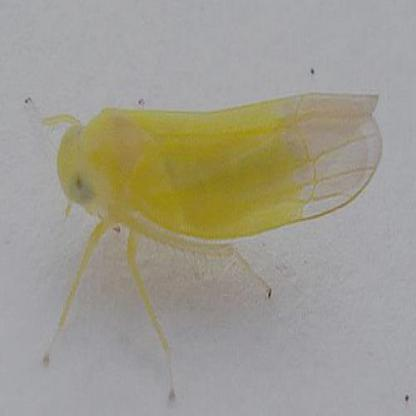green-leafhopper: (46, 57, 388, 267)
